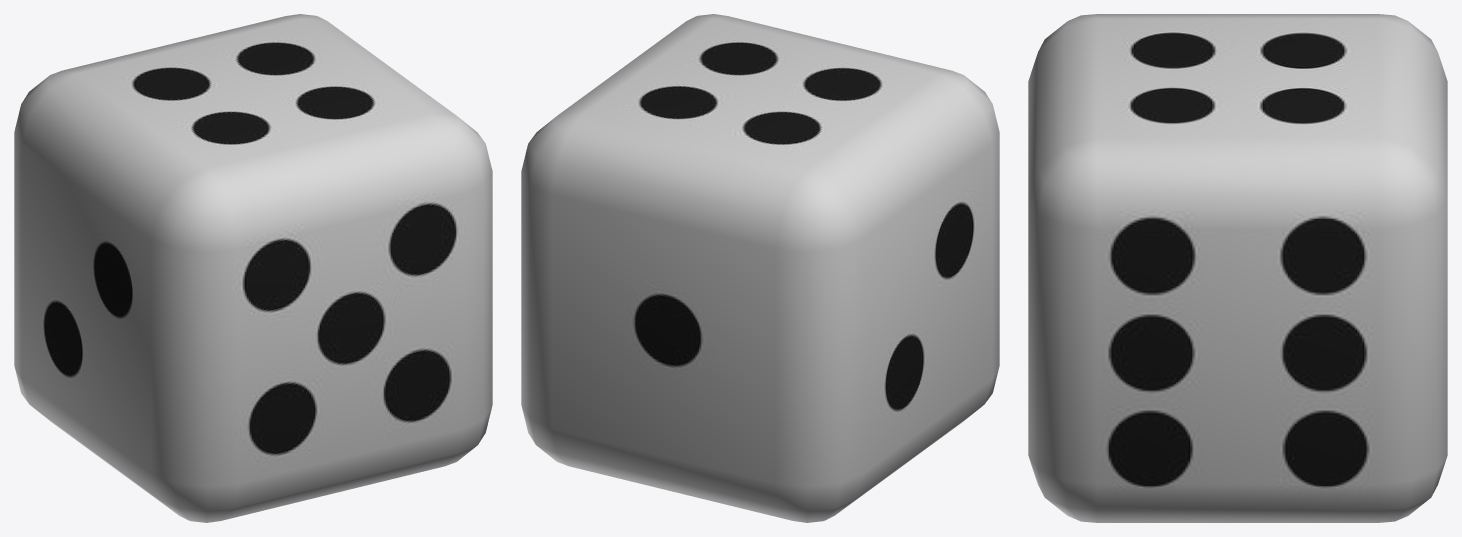
The model's file is dice.glb.
The picture shows the model from 3 angles, left to right: view 1: azimuth 30°, elevation 25°; view 2: azimuth 150°, elevation 25°; view 3: azimuth 270°, elevation 25°; orthographic projection. The views are drawn at different scales.
Bounding box in the file's own units: 1 × 1 × 1.
1 material, 1 textured.
